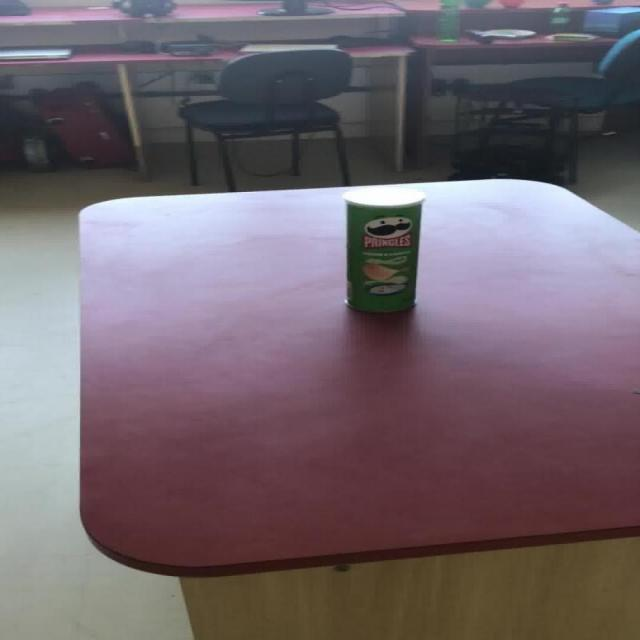Pringles: (341, 185, 425, 312)
